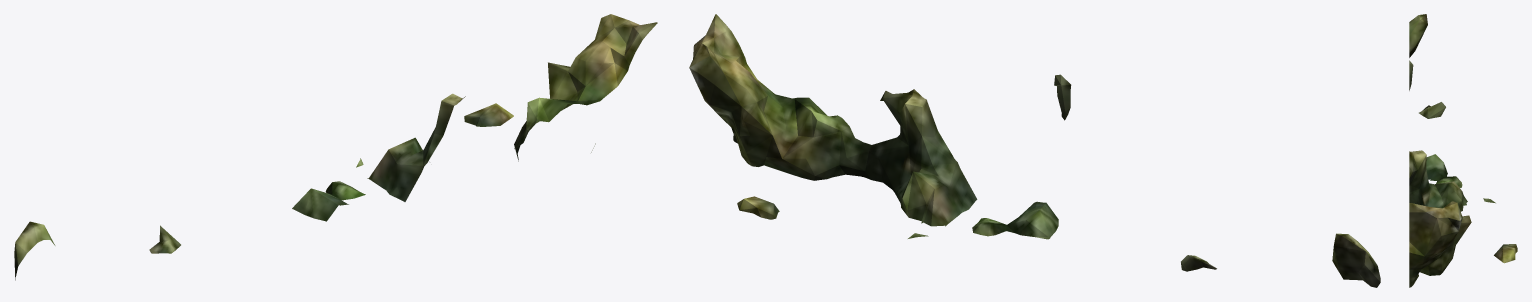
The picture shows the model from 3 angles, left to right: view 1: azimuth 30°, elevation 25°; view 2: azimuth 150°, elevation 25°; view 3: azimuth 270°, elevation 25°; orthographic projection. The views are drawn at different scales.
Size of the model in its own units: 3.19 by 0.6626 by 0.6008.
Materials: 1 (1 with a texture image).
